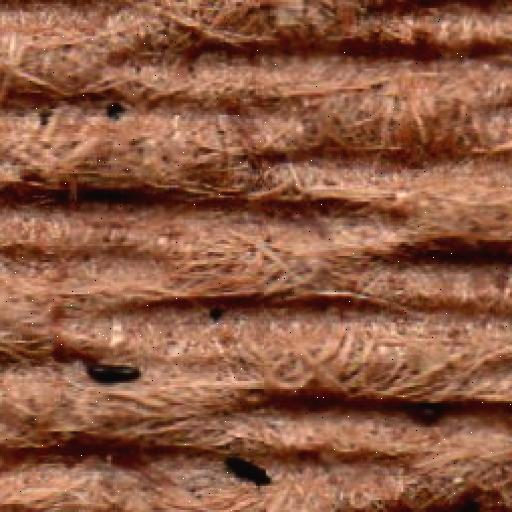egg: (228, 458, 270, 486), (89, 366, 140, 384)
